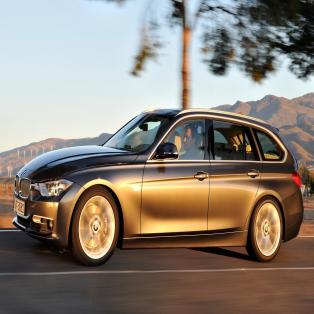Auto: (13, 106, 304, 269)
